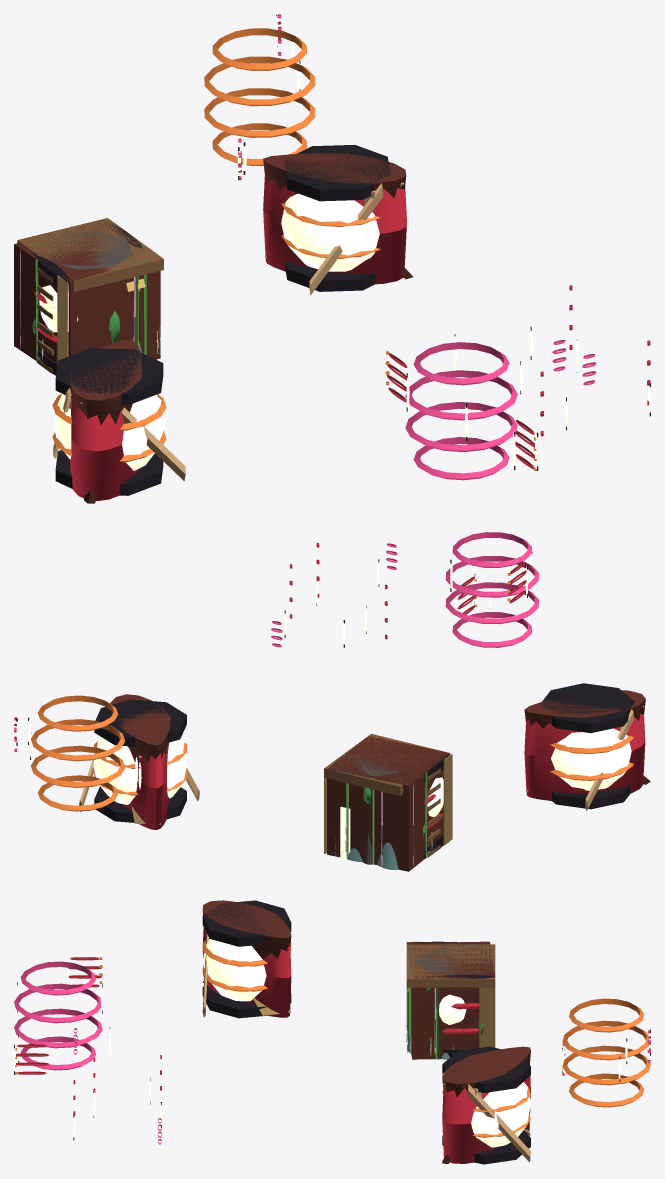
The model's file is ile-marais-v4.glb.
3 views of the same model, one above another, from view 1: azimuth 30°, elevation 25°; view 2: azimuth 150°, elevation 25°; view 3: azimuth 270°, elevation 25° (orthographic). The views are drawn at different scales.
Parts seen in each view (by area): view 1: marais_barque1, marais_decor, marais_barque0, marais_lanternes1, marais_lanternes0, marais_lanternes2; view 2: marais_decor, marais_barque0, marais_barque1, marais_lanternes1, marais_lanternes0, marais_lanternes2, marais_terrain; view 3: marais_decor, marais_barque0, marais_barque1, marais_lanternes1, marais_lanternes0, marais_lanternes2.
Part boxes in pixels (bbox=[...]): marais_barque1: bbox=[263, 144, 413, 295]; marais_decor: bbox=[14, 218, 163, 375]; marais_barque0: bbox=[52, 340, 185, 503]; marais_lanternes1: bbox=[385, 334, 538, 480]; marais_lanternes0: bbox=[204, 14, 315, 180]; marais_lanternes2: bbox=[520, 285, 650, 436]; marais_decor: bbox=[324, 734, 452, 871]; marais_barque0: bbox=[524, 683, 650, 810]; marais_barque1: bbox=[79, 694, 199, 829]; marais_lanternes1: bbox=[445, 532, 538, 647]; marais_lanternes0: bbox=[14, 695, 141, 811]; marais_lanternes2: bbox=[271, 543, 397, 647]; marais_terrain: bbox=[348, 842, 429, 869]; marais_decor: bbox=[406, 941, 495, 1059]; marais_barque0: bbox=[202, 900, 291, 1018]; marais_barque1: bbox=[442, 1046, 530, 1164]; marais_lanternes1: bbox=[14, 957, 102, 1074]; marais_lanternes0: bbox=[562, 998, 650, 1107]; marais_lanternes2: bbox=[73, 1027, 161, 1144].
Bounding box in the file's own units: 9.87 × 3.29 × 14.36.
